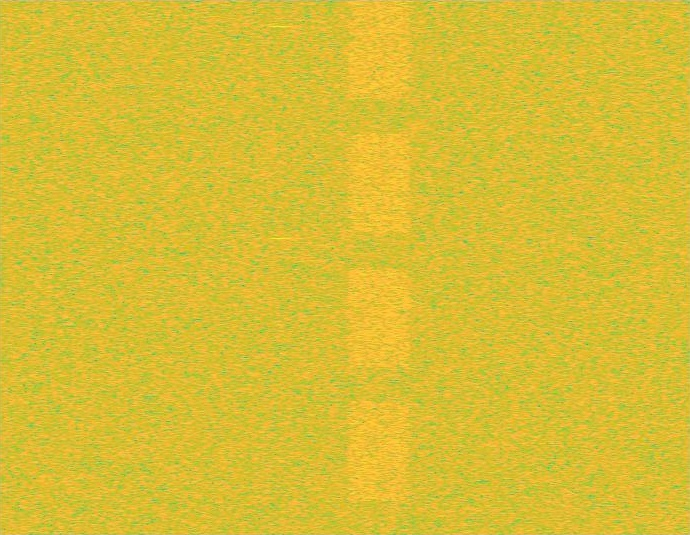5G: (345, 0, 414, 534)
Radar: (273, 0, 287, 534)
